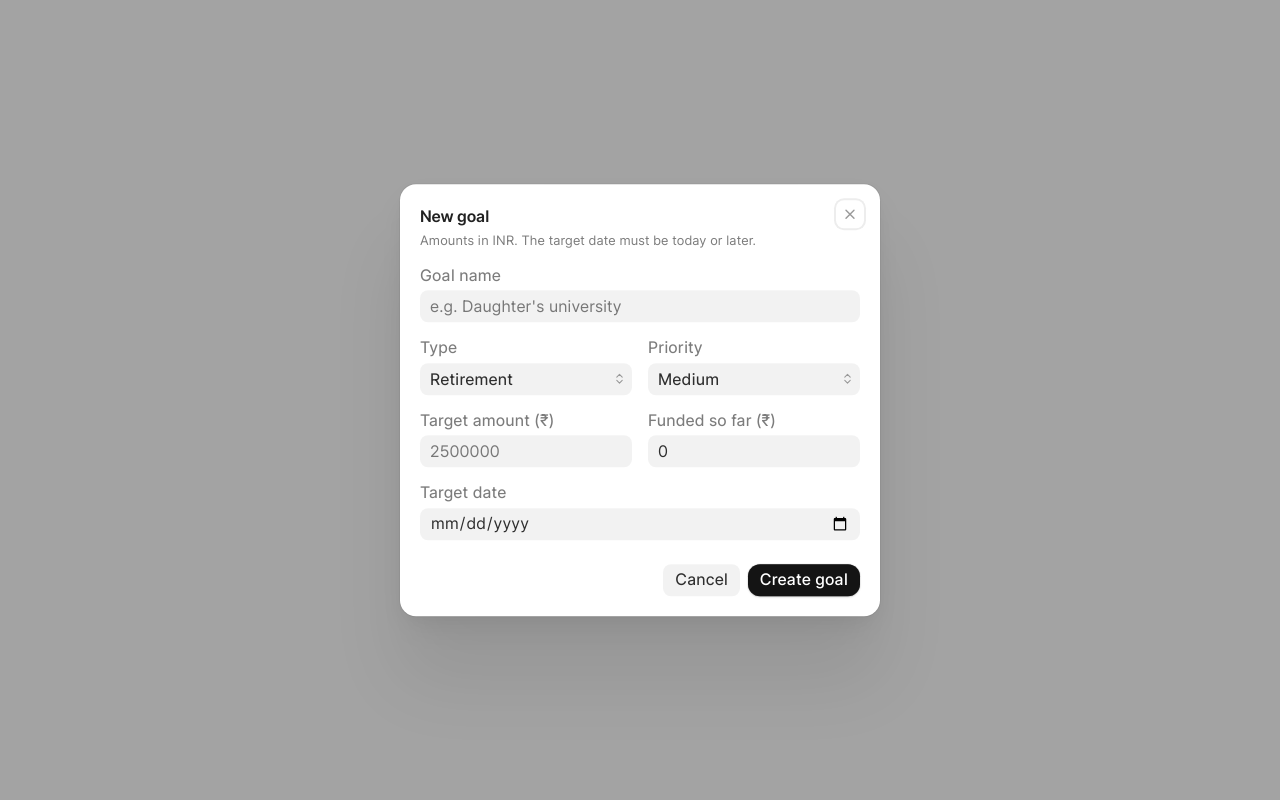
Scenario: GoalDialog › shows a server-side business-rule error under its field
Type "Flat in Kochi" into the field labelled "Goal name" at {"x": 640, "y": 307}, box [420,291,860,323]
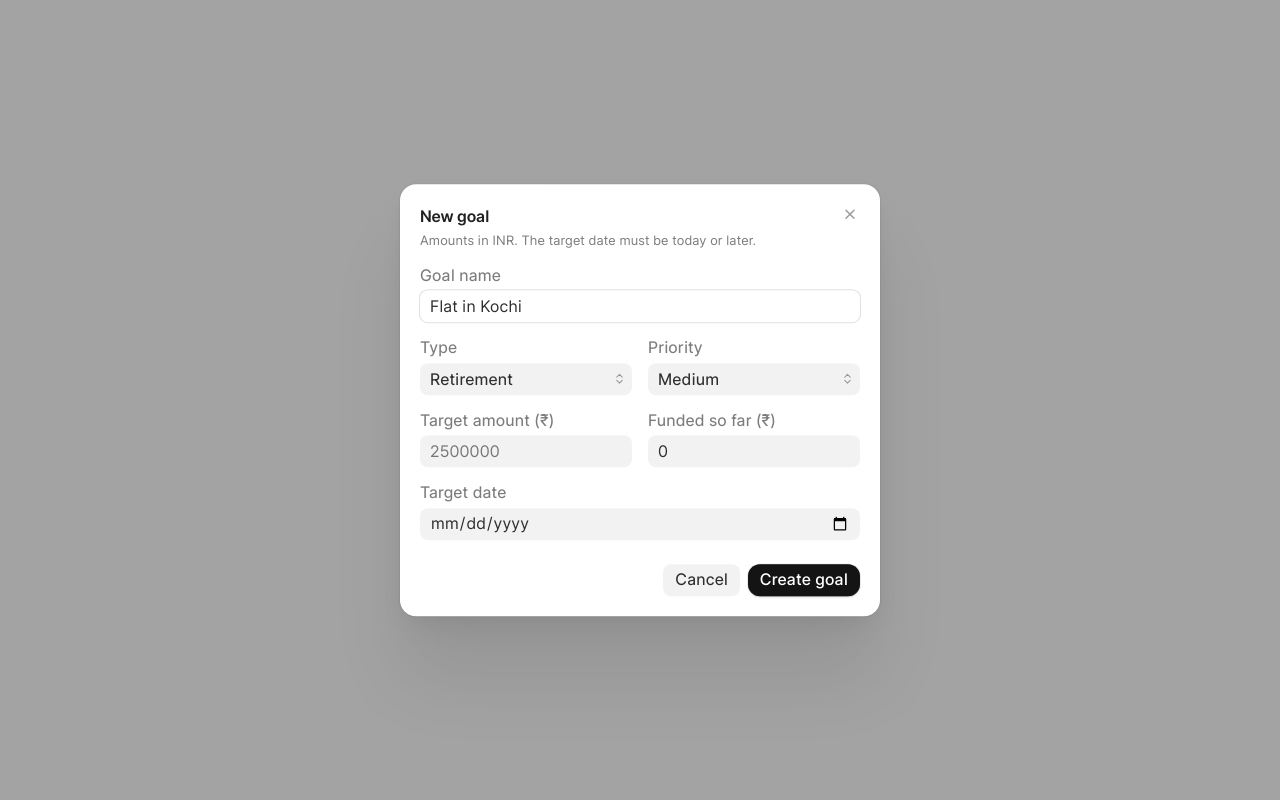
Type "4500000" into the field labelled "Target amount (₹)" at {"x": 526, "y": 451}, box [420,435,632,467]
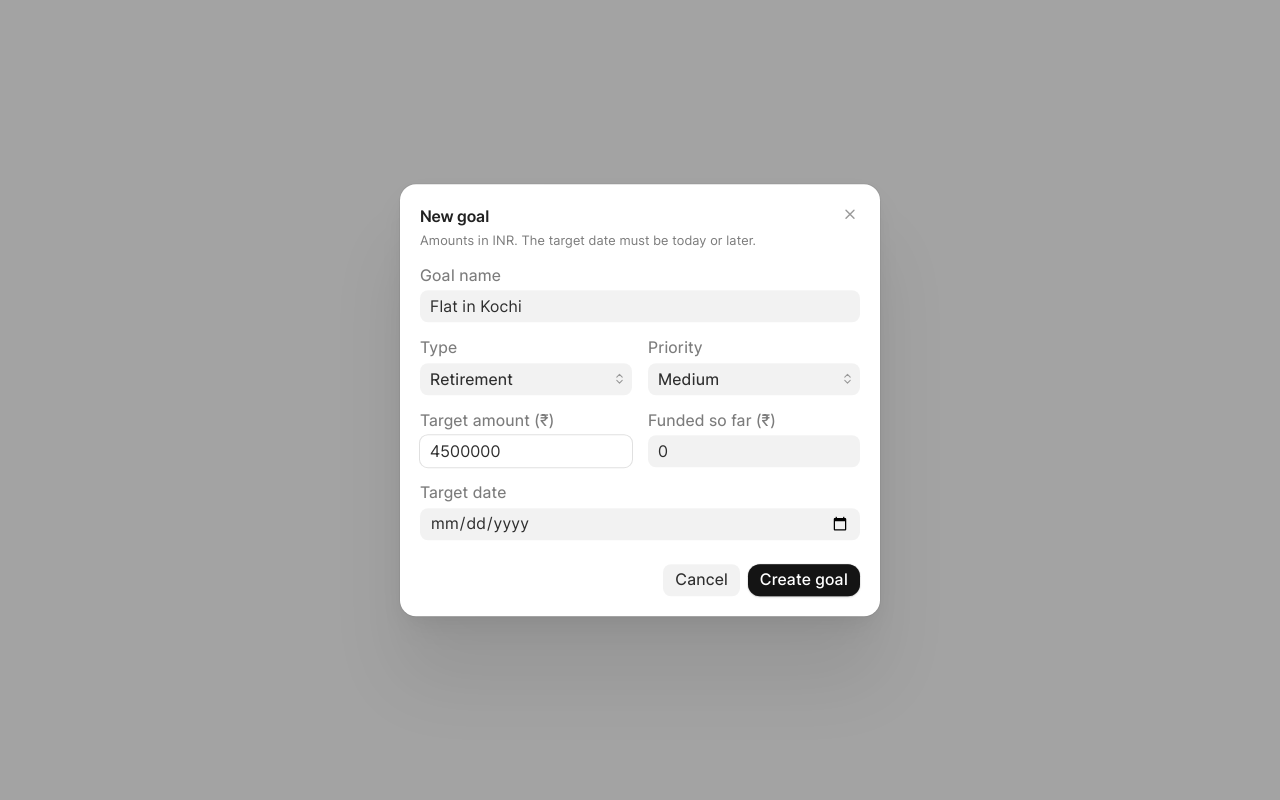
Type "2020-01-01" into the date field labelled "Target date" at {"x": 640, "y": 524}, box [420,508,860,540]
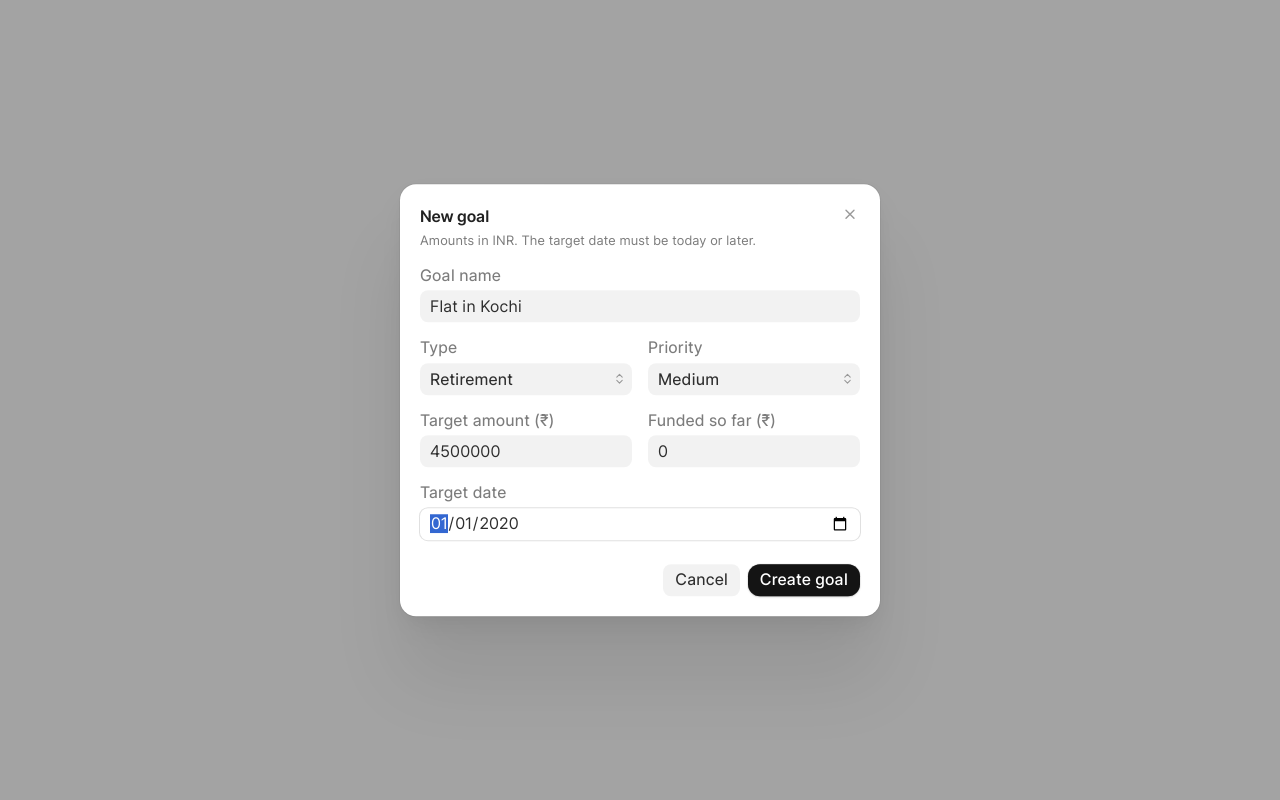
Click the button "Create goal" at {"x": 804, "y": 580}, box [748,564,860,596]
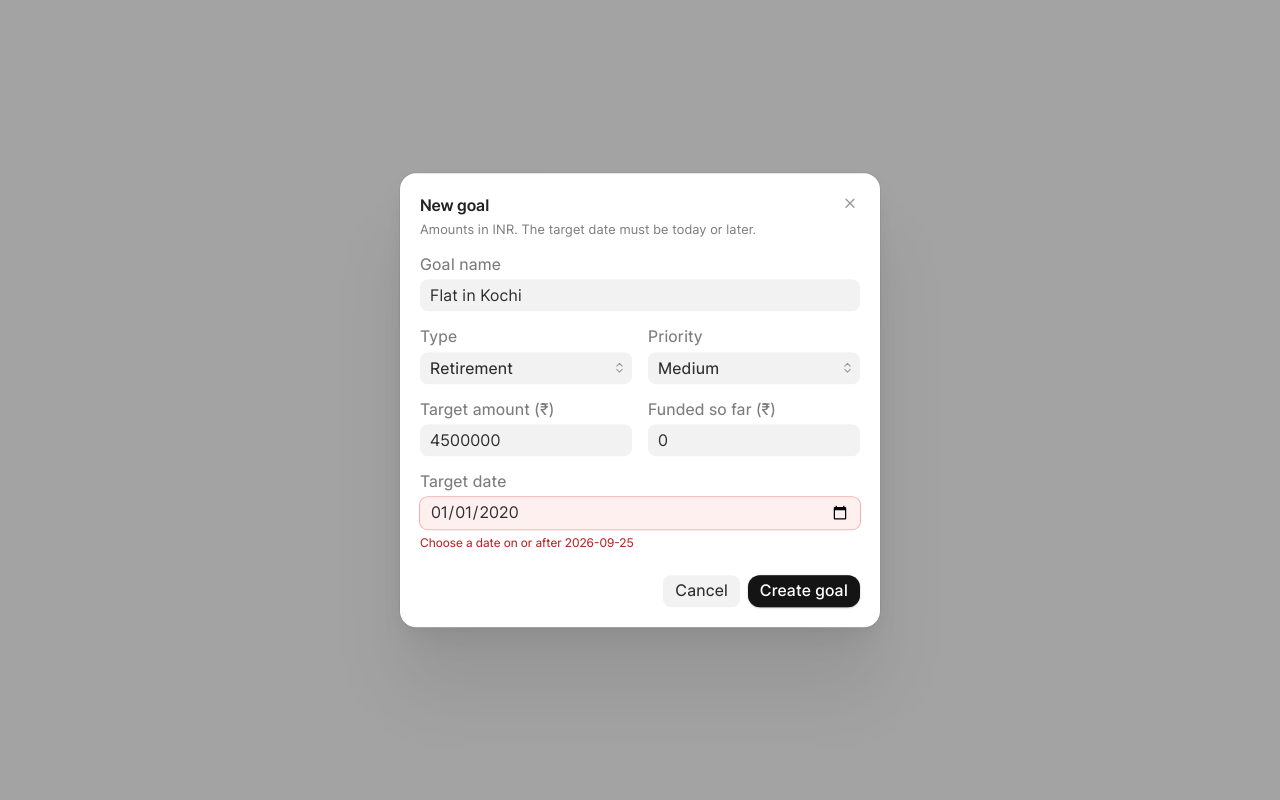
expect the text "Choose a date on or after 2026-09-25" is shown: met, box [420,535,634,550]
